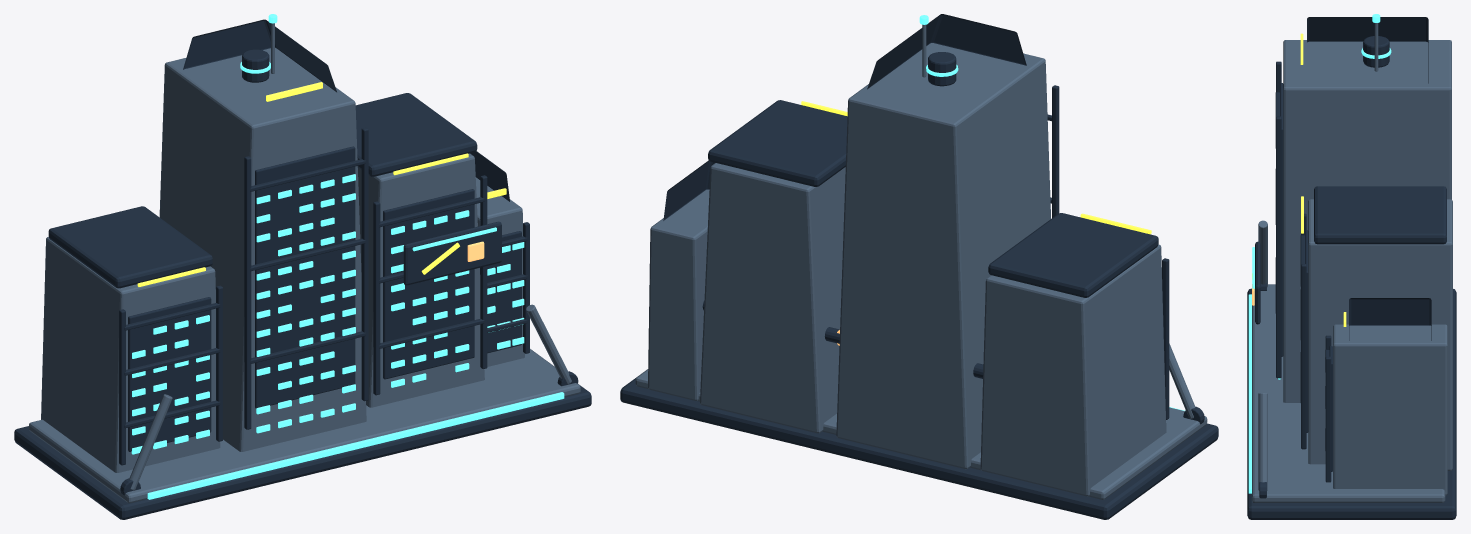
The model's file is EchoMegacityDistrictB.fbx.
3 renders of one model, left to right at view 1: azimuth 30°, elevation 25°; view 2: azimuth 150°, elevation 25°; view 3: azimuth 270°, elevation 25°, orthographic. The views are drawn at different scales.
Parts seen in each view (by area): view 1: EchoDepth_Geometry.001, EchoStructure_Geometry.001, EchoCyan_Geometry.001, EchoGold_Geometry.001; view 2: EchoStructure_Geometry.001, EchoDepth_Geometry.001; view 3: EchoStructure_Geometry.001, EchoDepth_Geometry.001, EchoCyan_Geometry.001, EchoGold_Geometry.001.
Part boxes in pixels (x1,y1,x2,y2): EchoDepth_Geometry.001: (14, 19, 591, 519); EchoStructure_Geometry.001: (29, 23, 580, 503); EchoCyan_Geometry.001: (131, 14, 564, 499); EchoGold_Geometry.001: (137, 82, 506, 286); EchoStructure_Geometry.001: (635, 24, 1207, 499); EchoDepth_Geometry.001: (620, 14, 1218, 519); EchoStructure_Geometry.001: (1252, 23, 1452, 502); EchoDepth_Geometry.001: (1247, 17, 1456, 519); EchoCyan_Geometry.001: (1248, 14, 1391, 493); EchoGold_Geometry.001: (1252, 33, 1346, 326).
Size of the model in its own units: 15 by 12.28 by 6.
